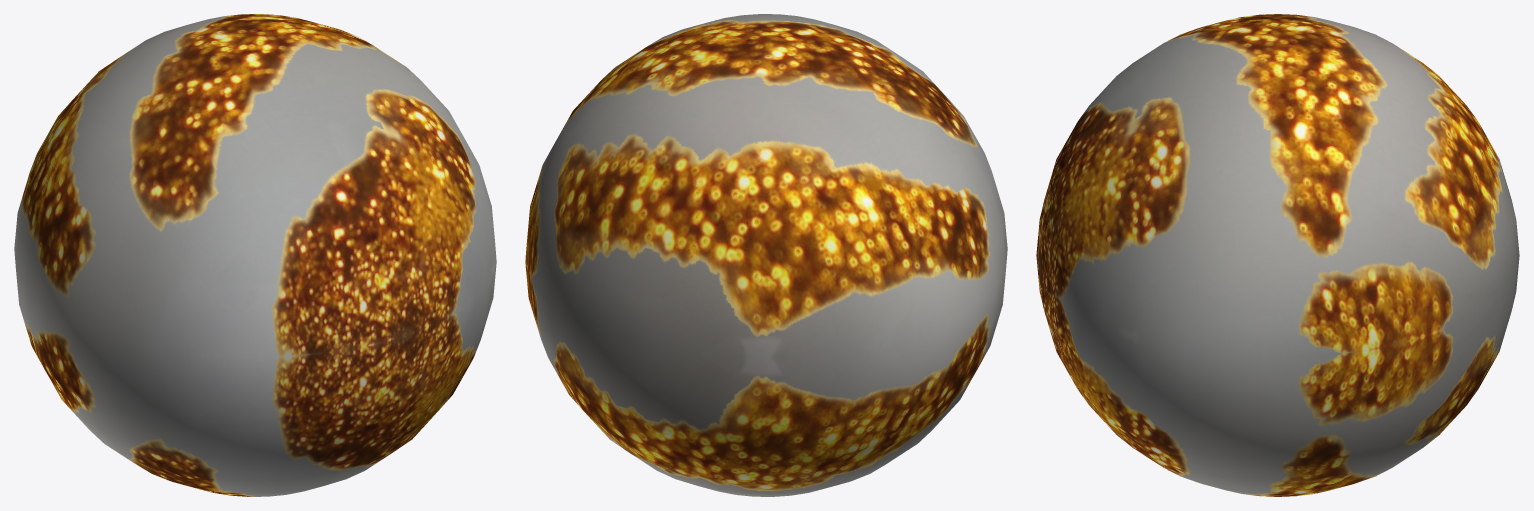
The model's file is Money_planet_1.FBX.
The picture shows the model from 3 angles, left to right: view 1: azimuth 30°, elevation 25°; view 2: azimuth 150°, elevation 25°; view 3: azimuth 270°, elevation 25°; orthographic projection.
Visible parts, largest first — view 1: Money_planet_1; view 2: Money_planet_1; view 3: Money_planet_1.
Part boxes in pixels (x1,y1,x2,y2): Money_planet_1: (14,14,496,496); Money_planet_1: (525,14,1007,496); Money_planet_1: (1036,14,1519,496).
Size of the model in its own units: 69.73 by 69.73 by 69.73.
